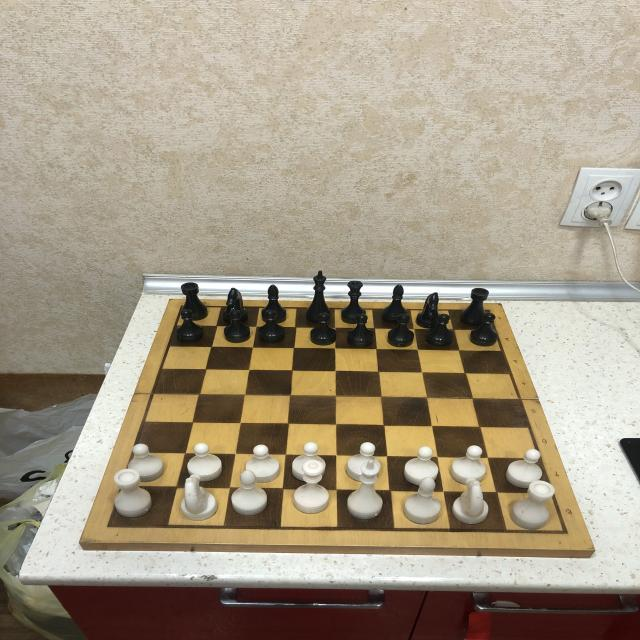chess-table-corners: (550, 522, 584, 544), (92, 516, 124, 538), (485, 306, 495, 312), (174, 302, 183, 308)
